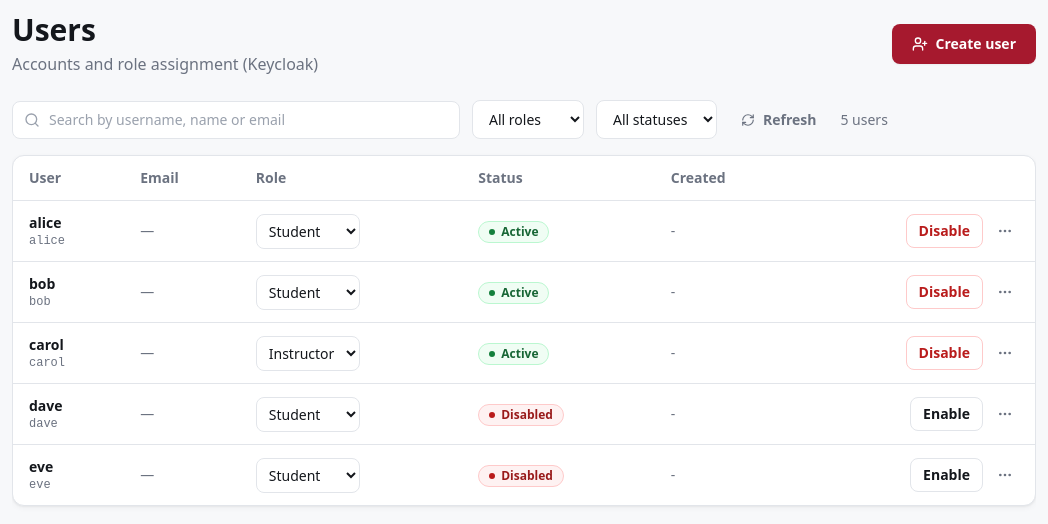
Test: Tab closes the menu
The image size is (1048, 524).
Click the button named "More actions for alice" at (1005, 231), box [991,217,1019,245]
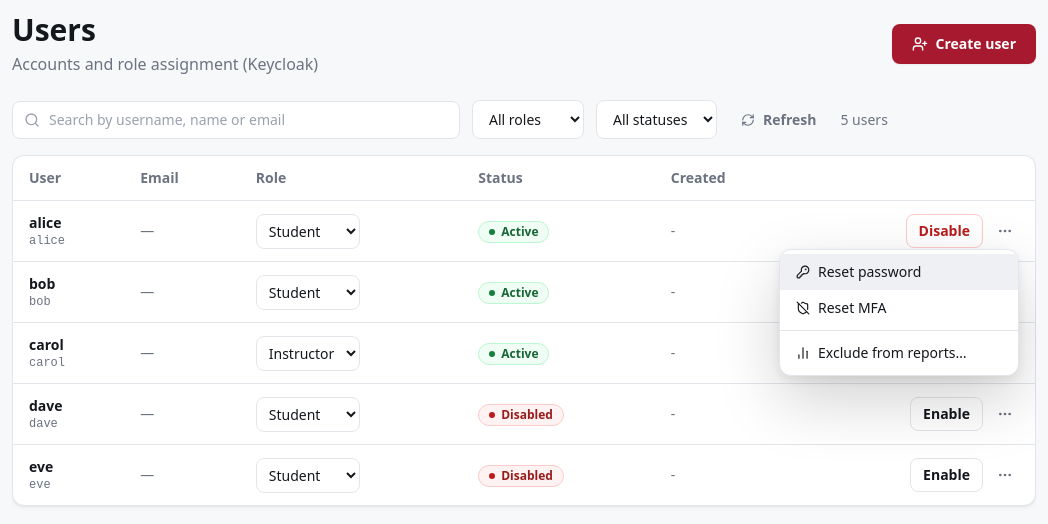
Press Tab in the menu, box [779,249,1019,376]
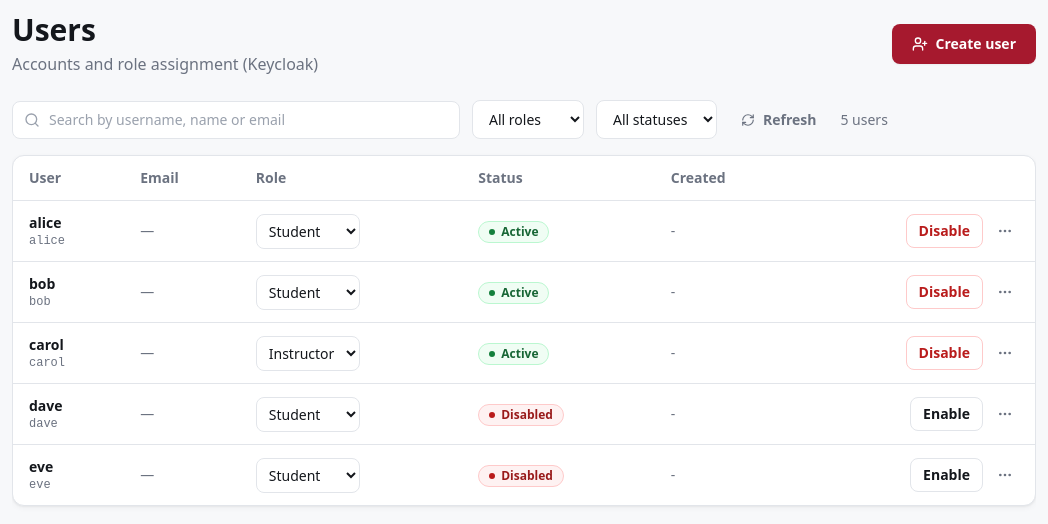
Result: the menu is gone
